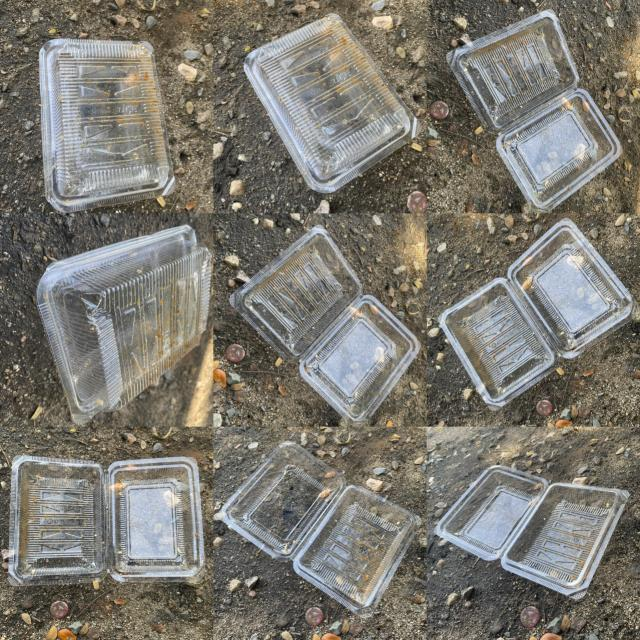Single-Use-Plastic: (230, 226, 420, 424), (440, 220, 634, 409), (36, 225, 212, 424), (221, 442, 420, 618), (446, 10, 620, 209), (244, 14, 418, 193), (434, 465, 629, 599), (10, 456, 204, 585), (39, 39, 174, 211)
